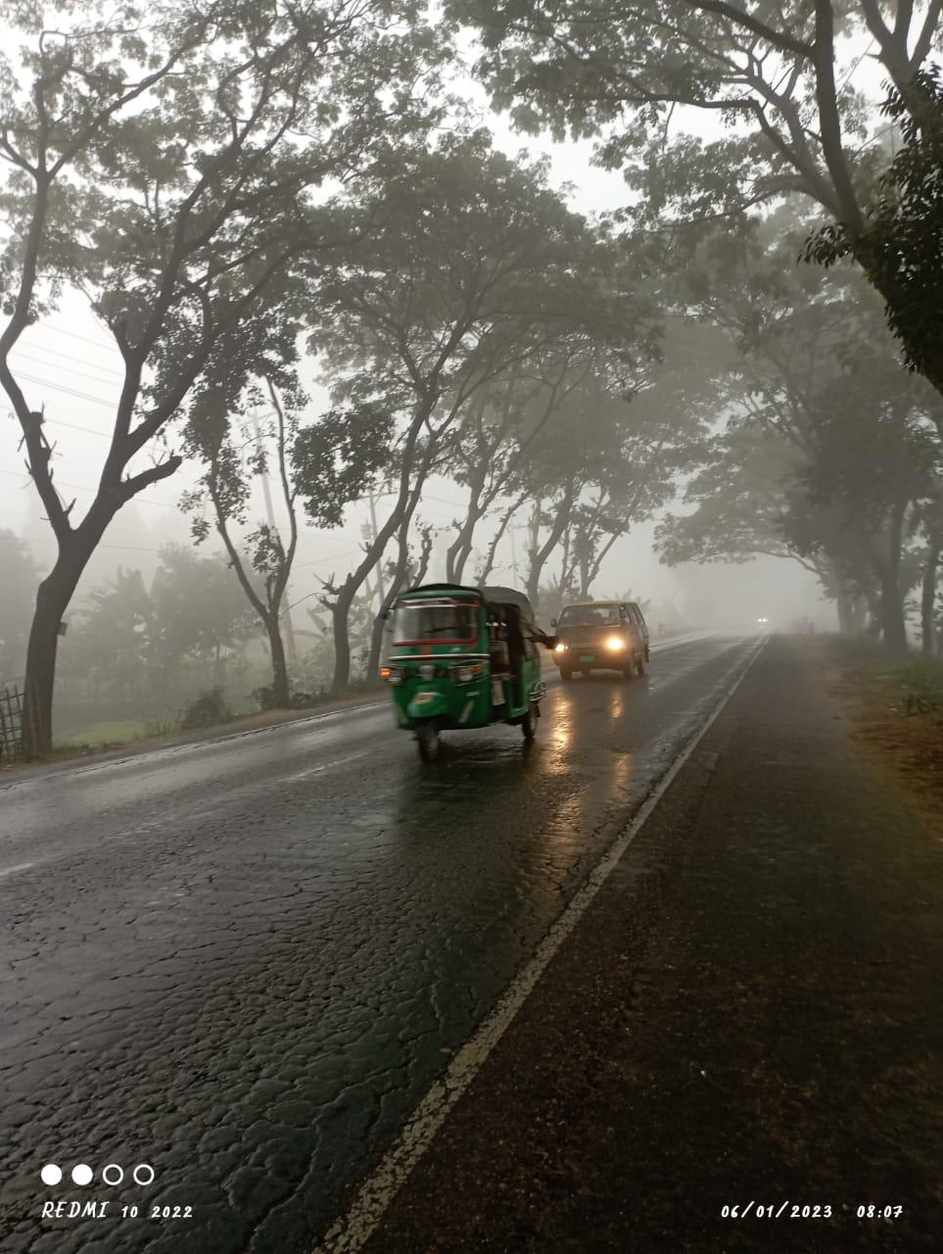Car: (550, 595, 656, 686)
